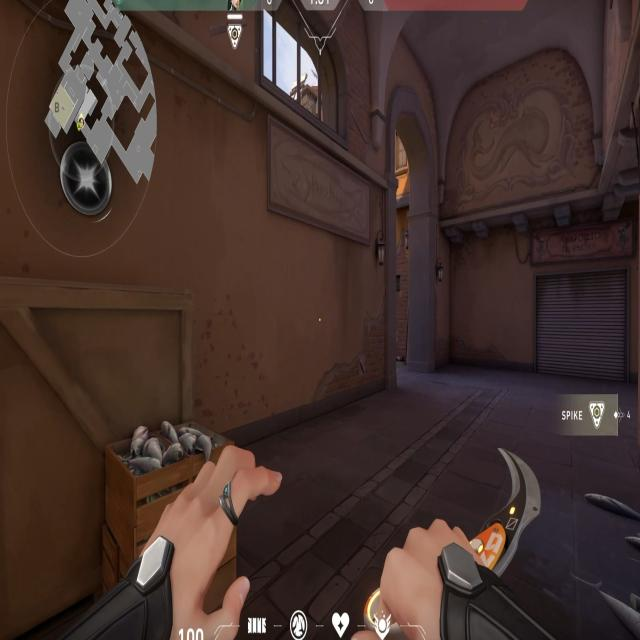B_Main_Wallbang: (13, 113, 232, 589)
Throwables: (252, 0, 364, 174)
